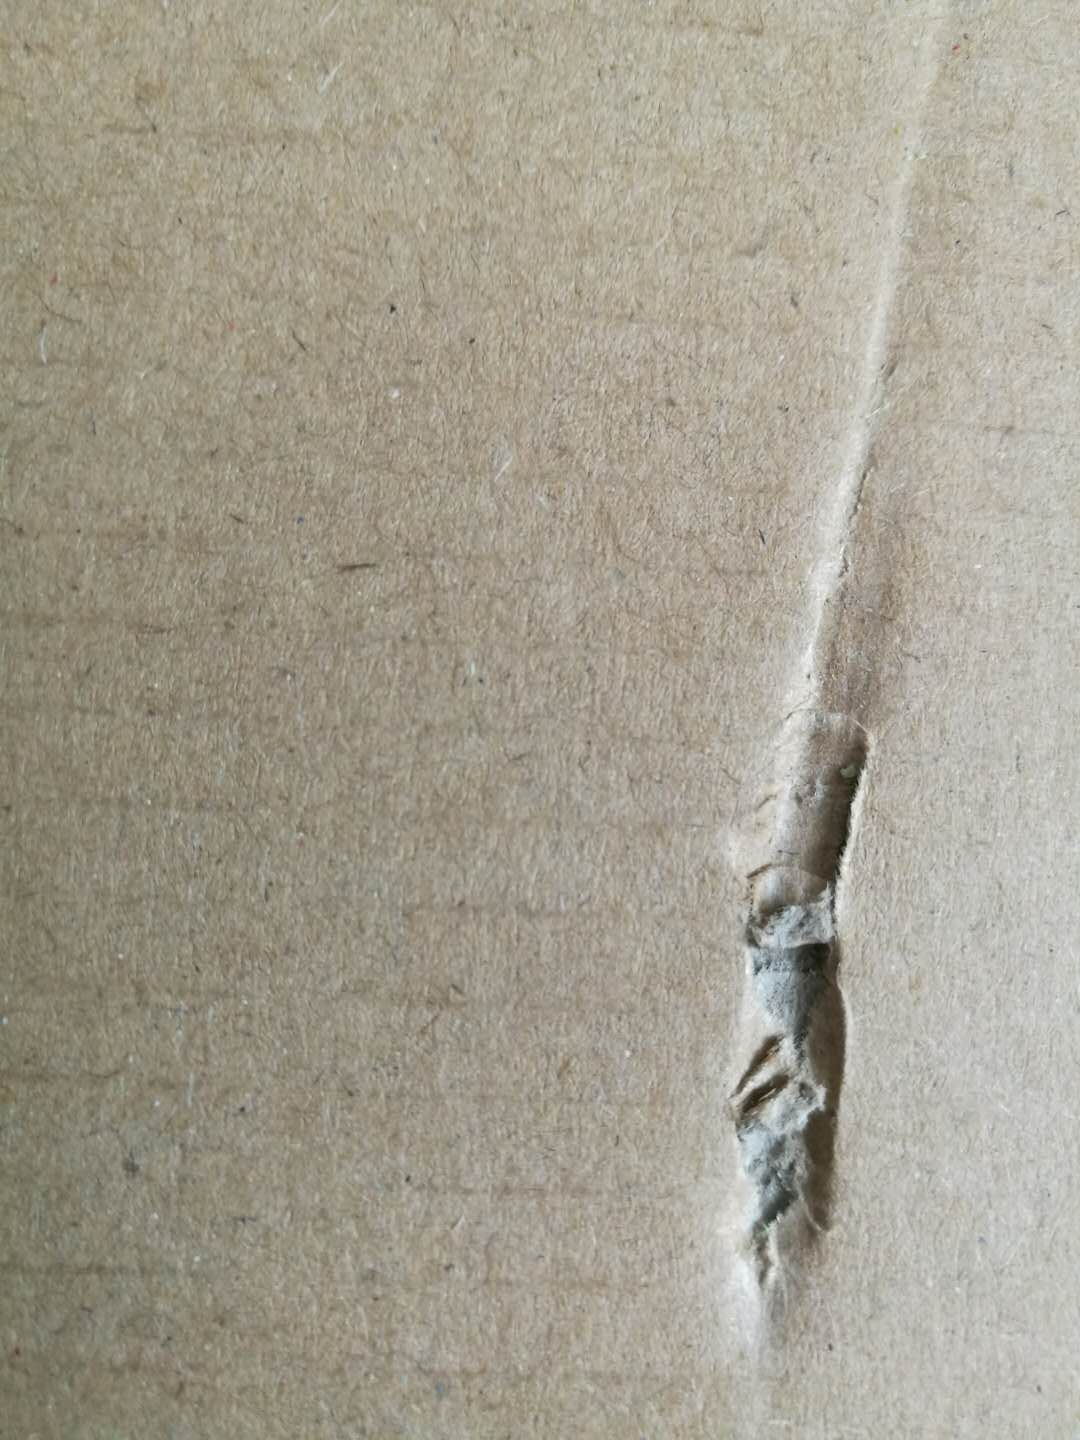defect: (680, 18, 1032, 1430)
